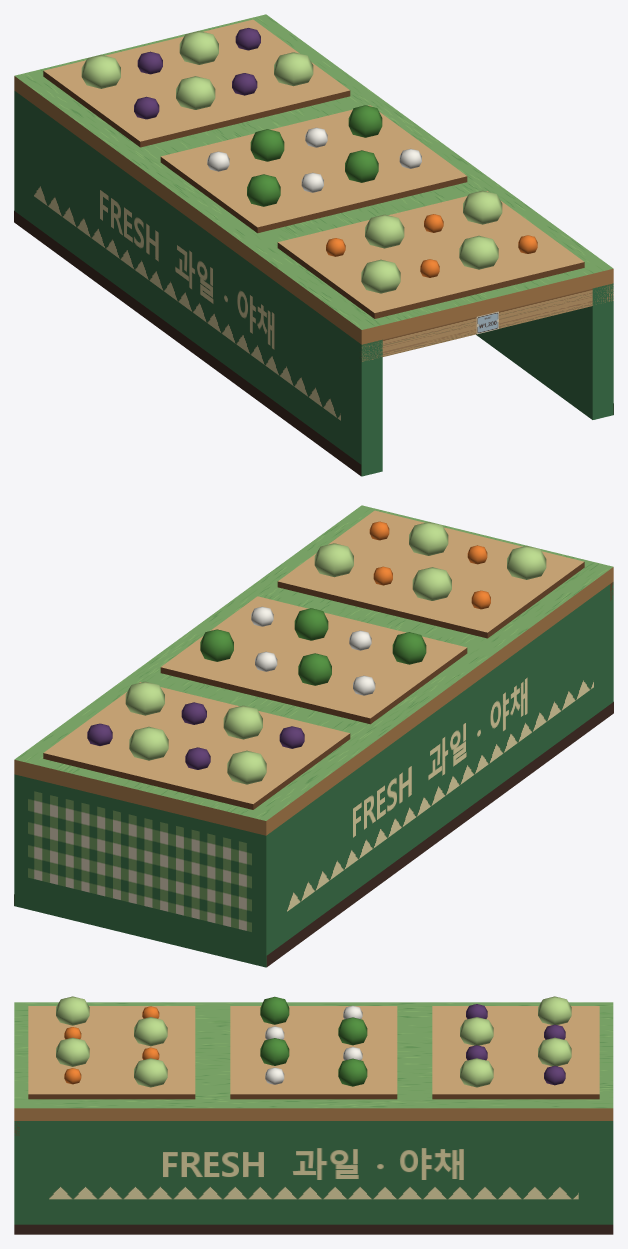
Rendered from Prop_VegCase.fbx.
The picture shows the model from 3 angles, top to bottom: view 1: azimuth 30°, elevation 25°; view 2: azimuth 150°, elevation 25°; view 3: azimuth 270°, elevation 25°; orthographic projection. The views are drawn at different scales.
Visible parts, largest first — view 1: Prop_VegCase; view 2: Prop_VegCase; view 3: Prop_VegCase.
Boxes of the visible parts, x1,y1,x2,y2 form: Prop_VegCase: (14,14,613,476); Prop_VegCase: (14,505,613,967); Prop_VegCase: (14,996,613,1234).
Bounding box in the file's own units: 1.81 × 1.21 × 4.31.
1 material, 1 textured.
